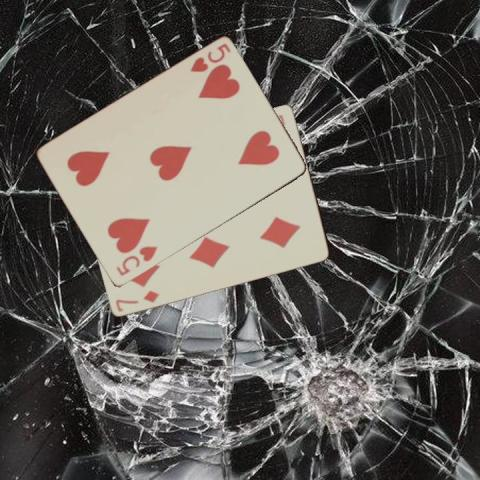5h: (112, 243, 158, 278), (187, 40, 232, 74)
7d: (113, 287, 161, 313)
